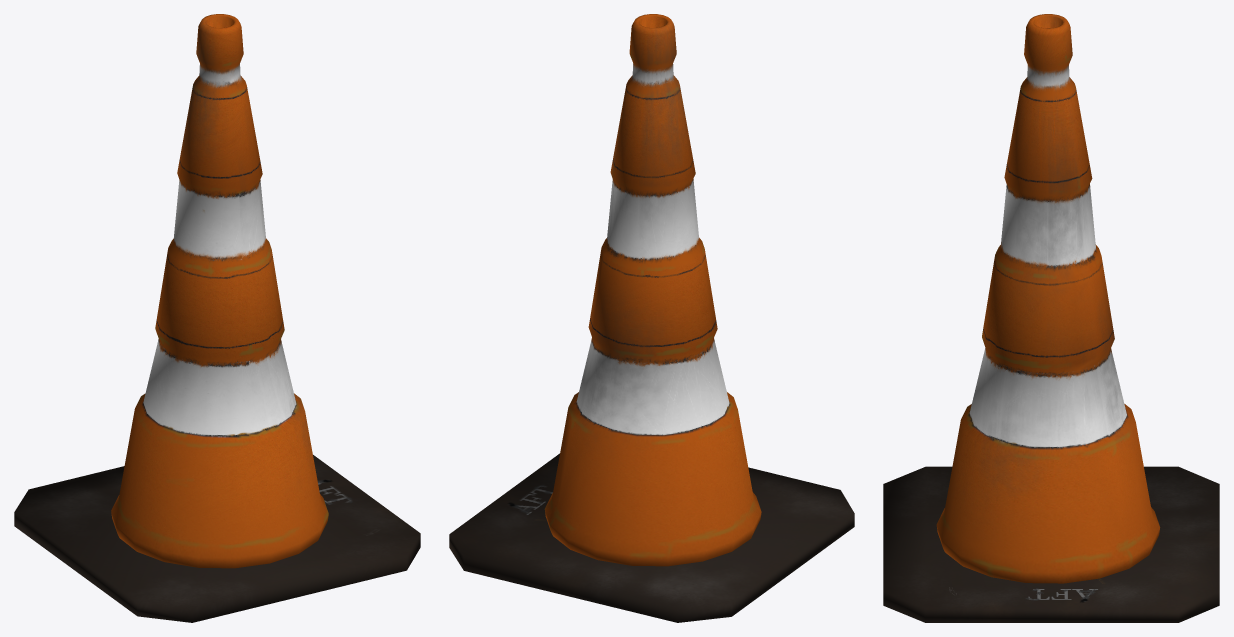
3 renders of one model, left to right at view 1: azimuth 30°, elevation 25°; view 2: azimuth 150°, elevation 25°; view 3: azimuth 270°, elevation 25°, orthographic. The views are drawn at different scales.
Visible parts, largest first — view 1: Cone_Low_poly_Standardmaterial_0; view 2: Cone_Low_poly_Standardmaterial_0; view 3: Cone_Low_poly_Standardmaterial_0.
Part boxes in pixels (x1=…): Cone_Low_poly_Standardmaterial_0: x1=14, y1=14, x2=420, y2=622; Cone_Low_poly_Standardmaterial_0: x1=449, y1=14, x2=854, y2=622; Cone_Low_poly_Standardmaterial_0: x1=883, y1=14, x2=1219, y2=622.
Size of the model in its own units: 502 by 874 by 502.
1 material, 1 textured.
